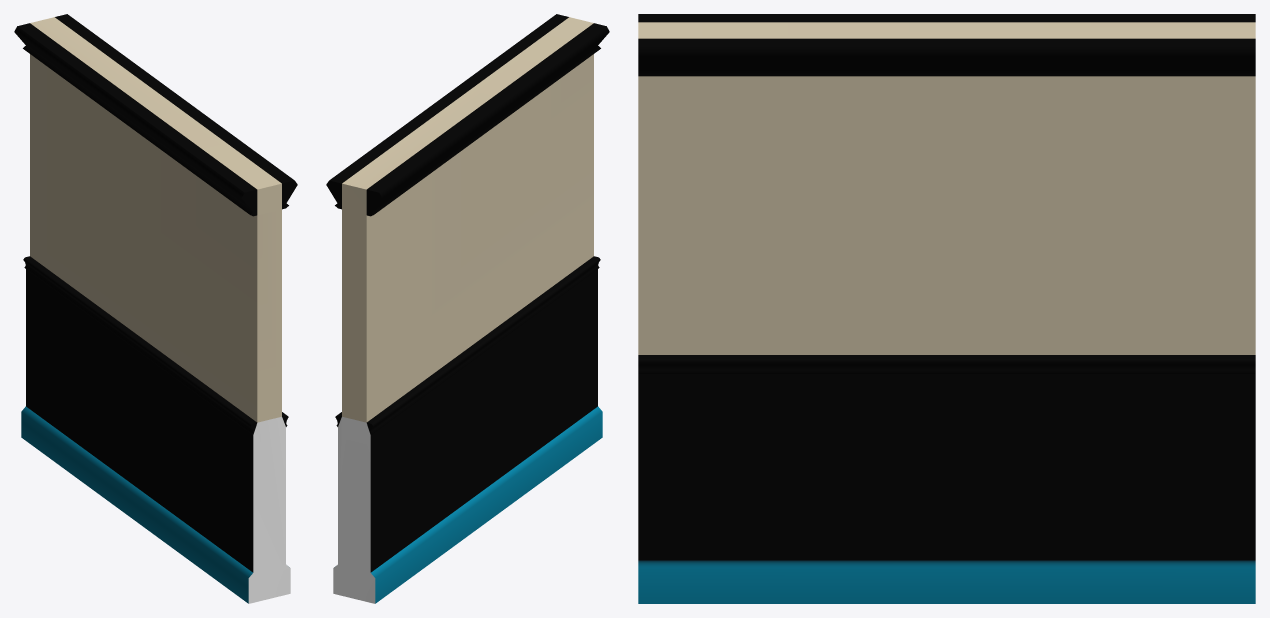
Rendered from Classic_Wall.fbx.
The picture shows the model from 3 angles, left to right: view 1: azimuth 30°, elevation 25°; view 2: azimuth 150°, elevation 25°; view 3: azimuth 270°, elevation 25°; orthographic projection. The views are drawn at different scales.
Parts seen in each view (by area): view 1: Classic_Wall_LOD00; view 2: Classic_Wall_LOD00; view 3: Classic_Wall_LOD00.
Part boxes in pixels (box(x1,y1,x2,y2)): Classic_Wall_LOD00: box(14, 14, 297, 603); Classic_Wall_LOD00: box(326, 14, 609, 603); Classic_Wall_LOD00: box(638, 14, 1255, 603).
Size of what is drawn, in the model's own units: 42.83 by 300 by 300.
